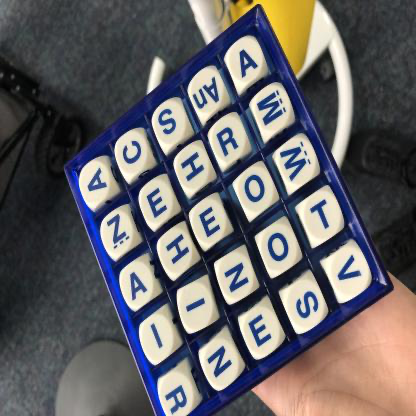a: (121, 260, 155, 308), (229, 37, 263, 80), (80, 161, 112, 201)
an: (193, 70, 224, 114)
c: (118, 132, 148, 172)
e: (192, 199, 228, 245), (245, 308, 279, 355), (142, 178, 175, 224)
h: (160, 227, 193, 274), (177, 145, 210, 190)
i: (180, 282, 215, 329), (141, 315, 174, 361)
m: (253, 84, 292, 132)
n: (219, 252, 254, 300), (205, 340, 239, 386)
o: (261, 224, 300, 271), (238, 166, 275, 215)
r: (211, 117, 248, 163), (163, 371, 194, 416)
s: (287, 281, 325, 329), (154, 100, 188, 142)
t: (304, 192, 342, 238)
v: (331, 247, 369, 297)
w: (279, 136, 317, 183)
z: (102, 209, 133, 256)
